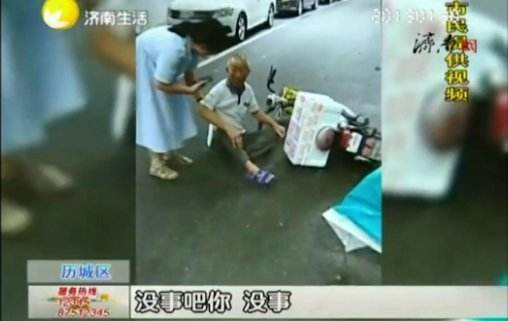fall: (197, 56, 290, 184)
